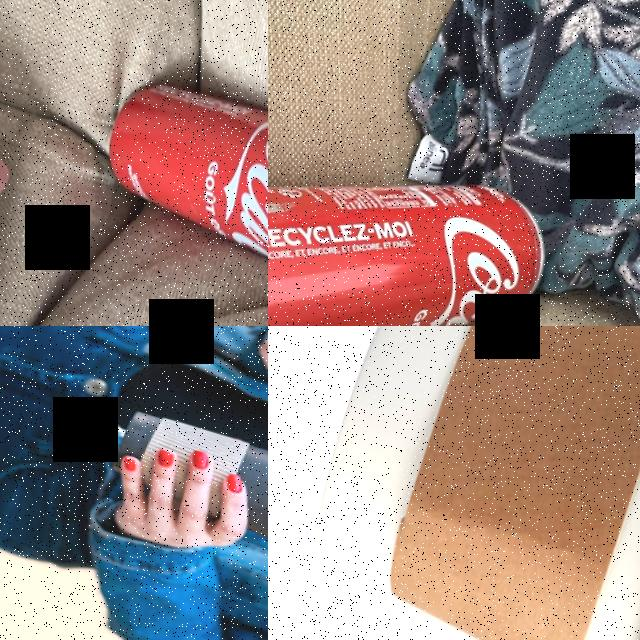can: (268, 86, 565, 326), (85, 60, 268, 309)
cup: (275, 326, 640, 640), (100, 401, 268, 571)
